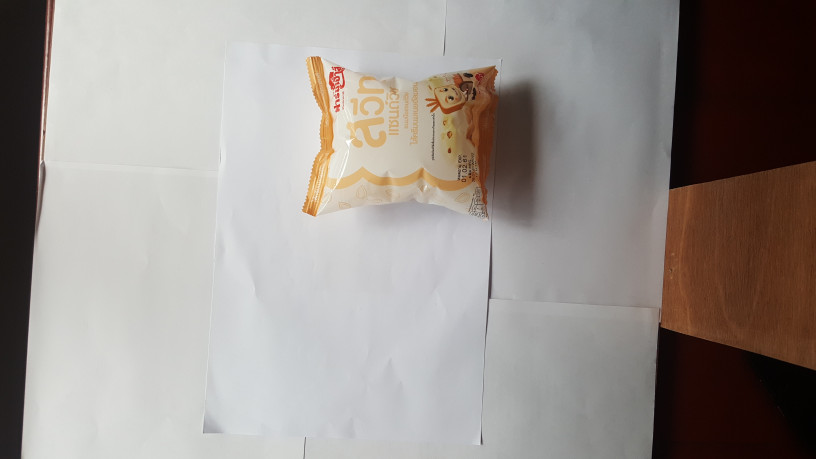farmhouse-sweetsandwich-almond: (299, 52, 510, 232)
